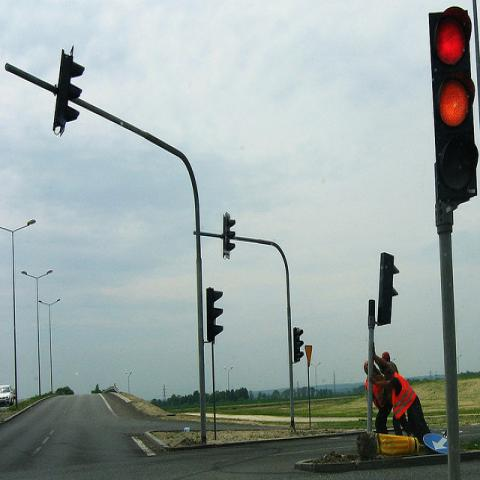car: (0, 386, 11, 402), (13, 389, 16, 399)
